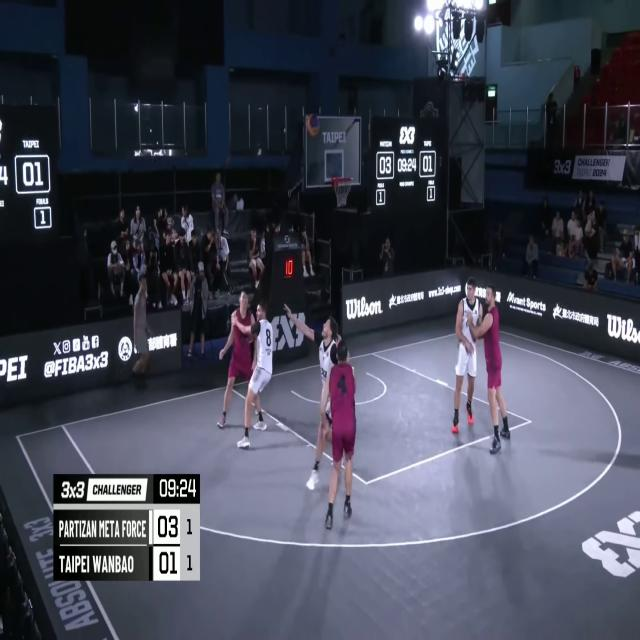ball: (306, 108, 320, 139)
hoop: (331, 172, 353, 209)
player: (282, 298, 352, 501), (467, 281, 510, 450), (324, 340, 357, 530), (217, 289, 257, 438), (238, 302, 276, 451), (452, 279, 480, 433)
